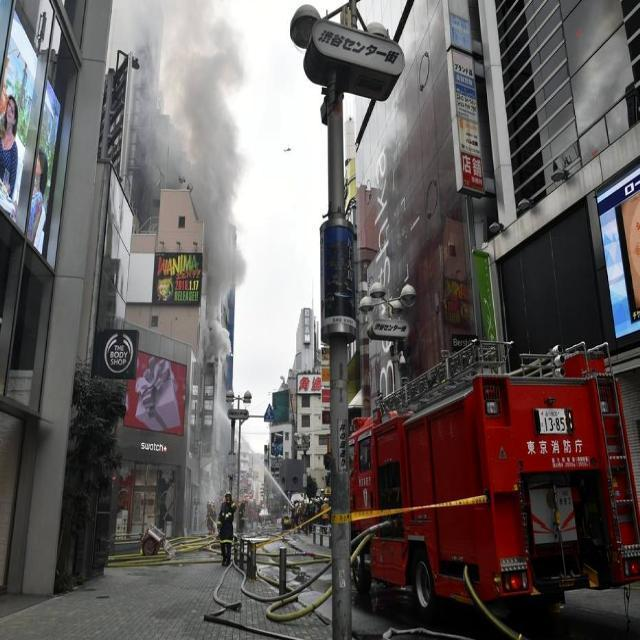Smoke: (136, 0, 257, 300)
